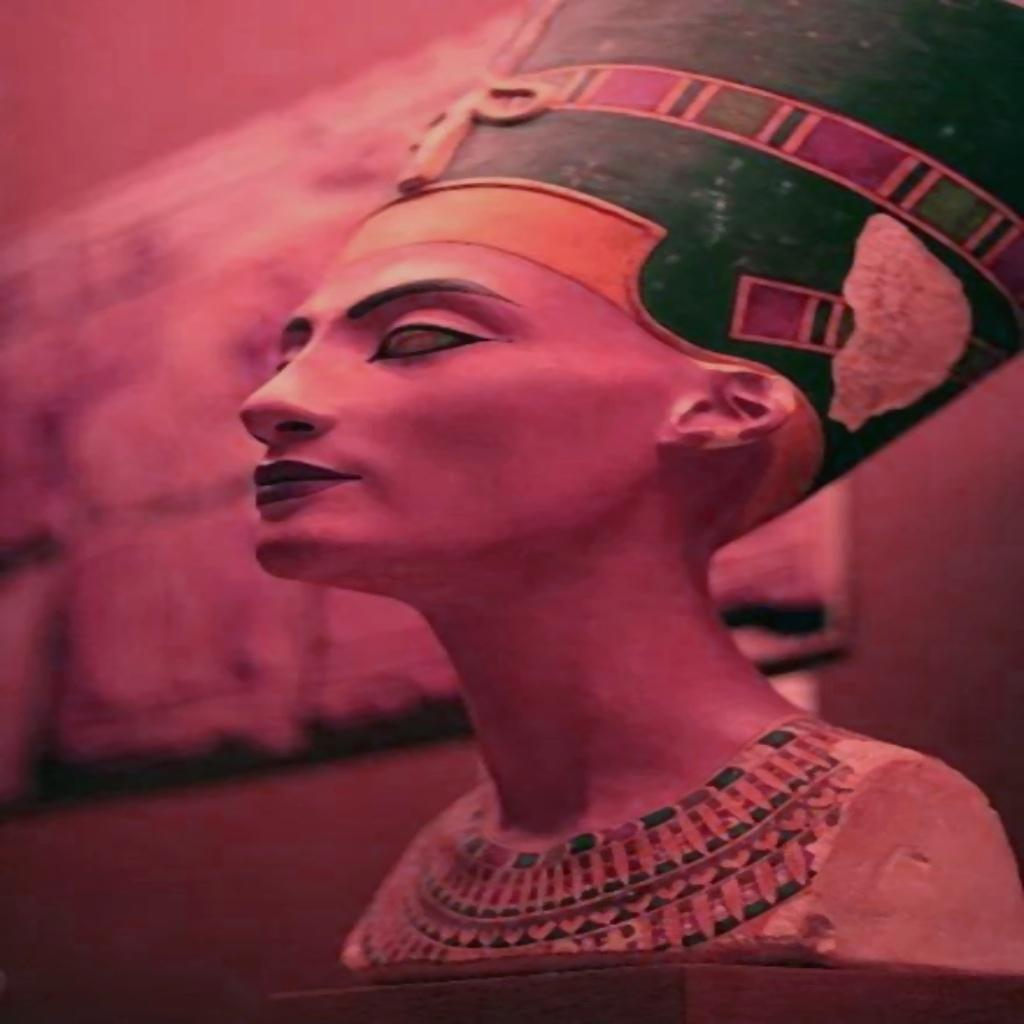Nefertiti: (239, 0, 1024, 969)
